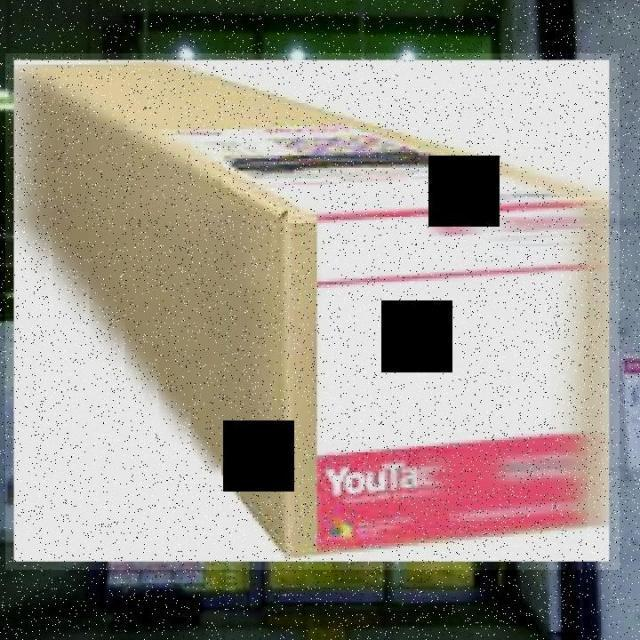box: (6, 53, 620, 570)
